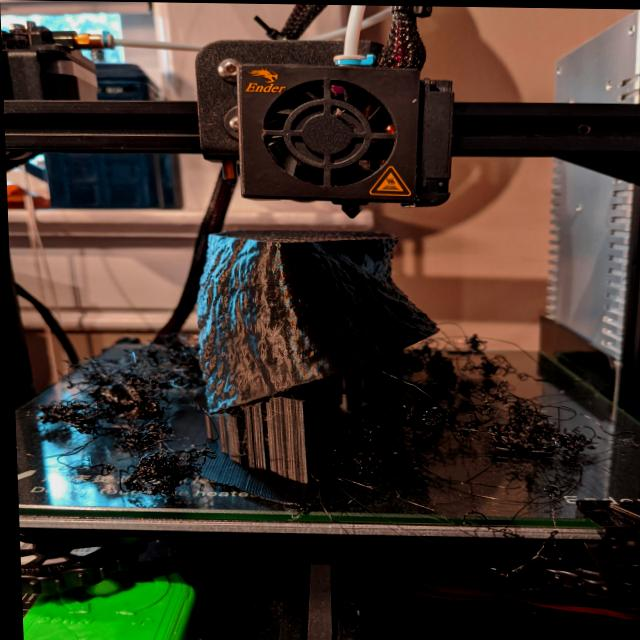spaghetti: (388, 335, 634, 505), (27, 339, 206, 505)
